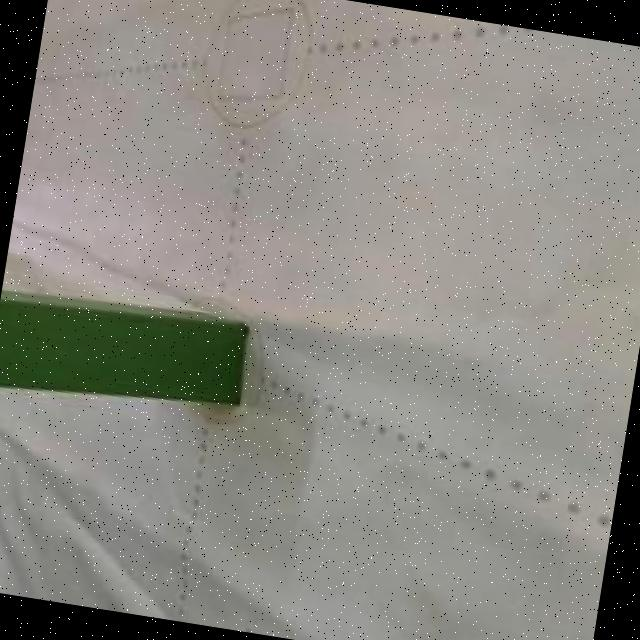greenbox: (0, 281, 249, 424)
